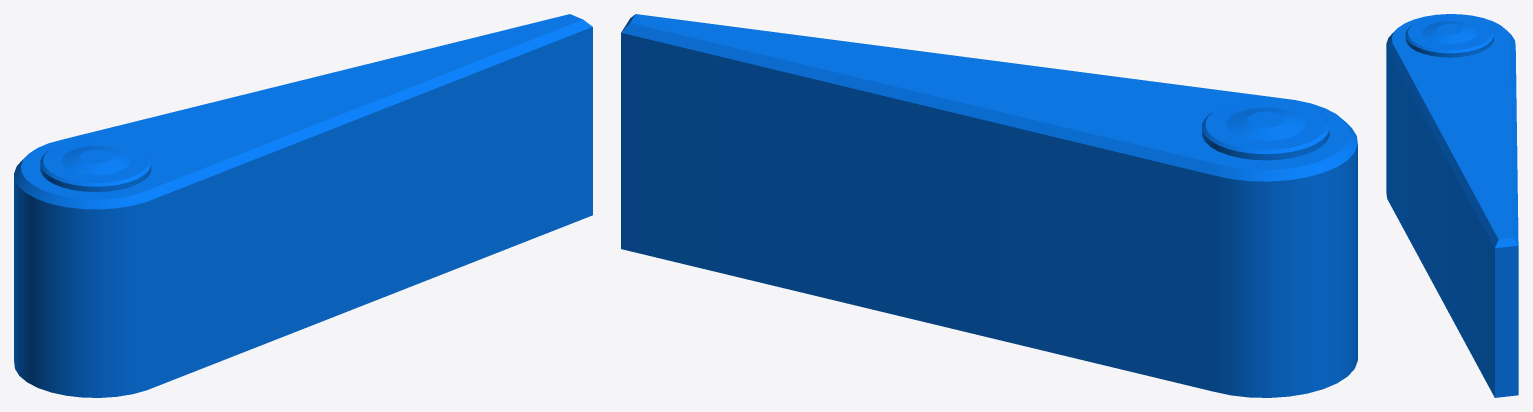
The model's file is SM_FlipperRight.fbx.
The picture shows the model from 3 angles, left to right: view 1: azimuth 30°, elevation 25°; view 2: azimuth 150°, elevation 25°; view 3: azimuth 270°, elevation 25°; orthographic projection. The views are drawn at different scales.
Visible parts, largest first — view 1: Object013; view 2: Object013; view 3: Object013.
Boxes of the visible parts, box(x1,y1,x2,y2) form: Object013: box(14, 14, 592, 397); Object013: box(621, 14, 1357, 397); Object013: box(1386, 14, 1518, 397).
Size of the model in its own units: 6.93 by 2.31 by 1.68.
